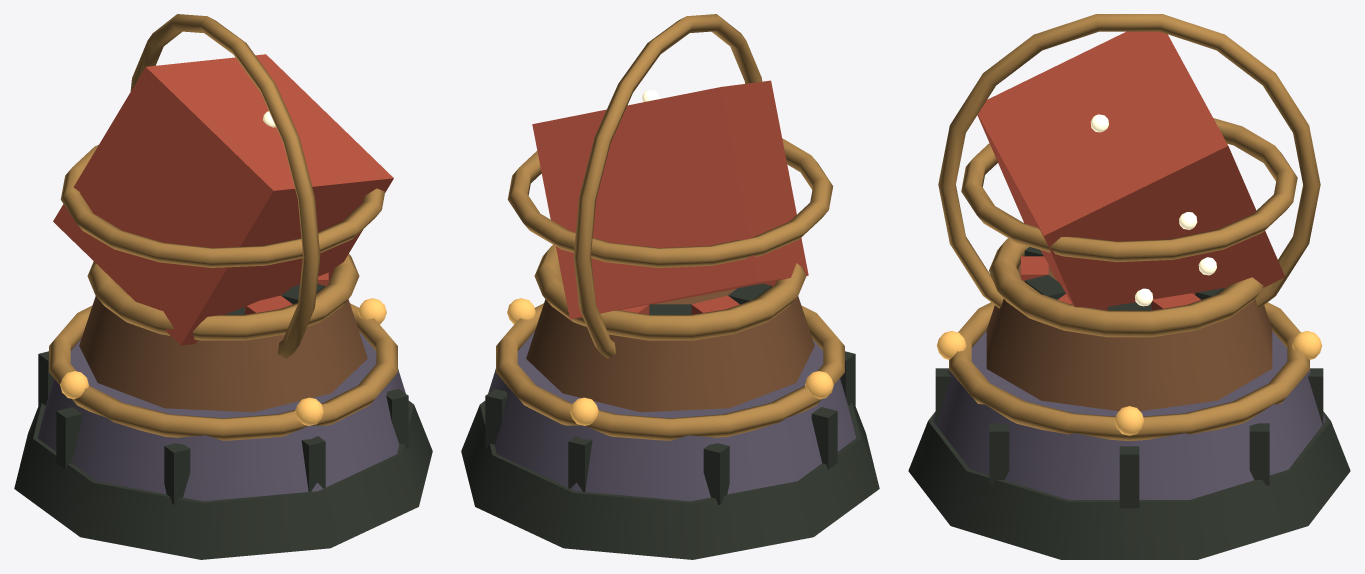
File: tower_gamble_gambleFate_ultimate.glb
3 renders of one model, left to right at view 1: azimuth 30°, elevation 25°; view 2: azimuth 150°, elevation 25°; view 3: azimuth 270°, elevation 25°, orthographic. The views are drawn at different scales.
Parts seen in each view (by area): view 1: die_29, foot_0, stone_1, table_15, rim_2, high_roller_36, fate_ring_35, roulette_rim_16, mortar_6, mortar_7, mortar_5, mortar_4 (+5 smaller); view 2: die_29, foot_0, stone_1, table_15, rim_2, fate_ring_35, high_roller_36, roulette_rim_16, mortar_8, mortar_7, mortar_9, mortar_10 (+6 smaller); view 3: die_29, foot_0, stone_1, table_15, high_roller_36, rim_2, fate_ring_35, roulette_rim_16, mortar_3, mortar_4, mortar_10, rivet_11 (+6 smaller).
Part boxes in pixels (left/top/right/bottom): die_29: left=53, top=54, right=393, bottom=345; foot_0: left=14, top=401, right=432, bottom=559; stone_1: left=38, top=331, right=409, bottom=501; table_15: left=79, top=281, right=367, bottom=412; rim_2: left=49, top=303, right=397, bottom=440; high_roller_36: left=130, top=14, right=320, bottom=358; fate_ring_35: left=60, top=145, right=384, bottom=267; roulette_rim_16: left=87, top=254, right=359, bottom=340; mortar_6: left=164, top=443, right=190, bottom=504; mortar_7: left=56, top=407, right=82, bottom=469; mortar_5: left=301, top=436, right=325, bottom=491; mortar_4: left=386, top=389, right=408, bottom=447; die_29: left=532, top=80, right=808, bottom=319; foot_0: left=461, top=401, right=879, bottom=559; stone_1: left=484, top=331, right=855, bottom=501; table_15: left=526, top=281, right=814, bottom=412; rim_2: left=496, top=303, right=844, bottom=440; fate_ring_35: left=507, top=138, right=833, bottom=267; high_roller_36: left=573, top=14, right=762, bottom=358; roulette_rim_16: left=534, top=244, right=806, bottom=340; mortar_8: left=703, top=443, right=729, bottom=504; mortar_7: left=811, top=407, right=837, bottom=469; mortar_9: left=568, top=436, right=592, bottom=491; mortar_10: left=485, top=389, right=507, bottom=447; die_29: left=977, top=31, right=1284, bottom=310; foot_0: left=908, top=411, right=1350, bottom=559; stone_1: left=933, top=331, right=1325, bottom=499; table_15: left=986, top=263, right=1272, bottom=411; high_roller_36: left=938, top=14, right=1320, bottom=308; rim_2: left=949, top=302, right=1309, bottom=440; fate_ring_35: left=961, top=118, right=1297, bottom=262; roulette_rim_16: left=989, top=238, right=1263, bottom=337; mortar_3: left=1119, top=446, right=1139, bottom=508; mortar_4: left=989, top=423, right=1009, bottom=485; mortar_10: left=1249, top=423, right=1269, bottom=485; rivet_11: left=1114, top=406, right=1144, bottom=435.
Size of the model in its own units: 0.5326 by 0.6383 by 0.56.
